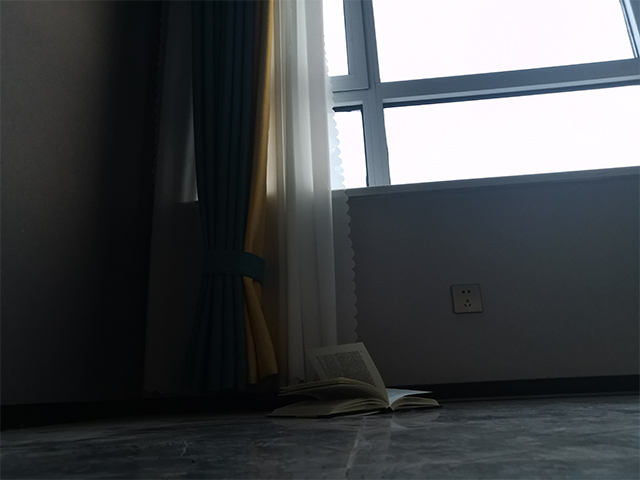book: (265, 340, 442, 420)
curtain: (188, 1, 361, 390)
